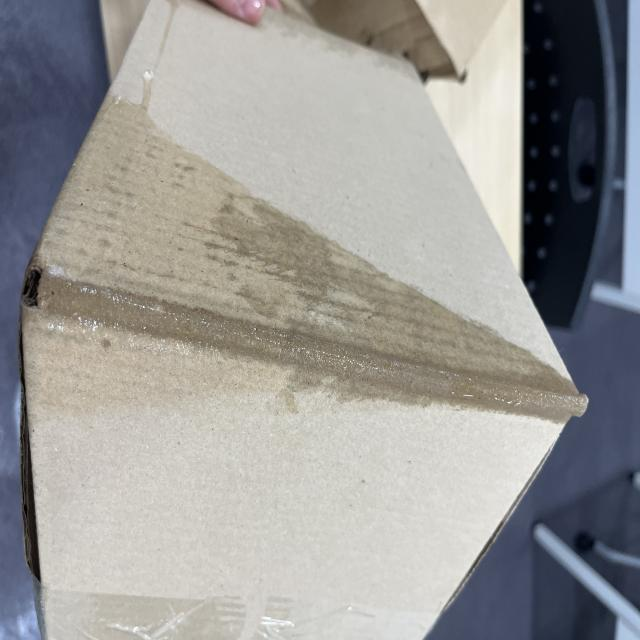wet: (33, 103, 586, 422)
